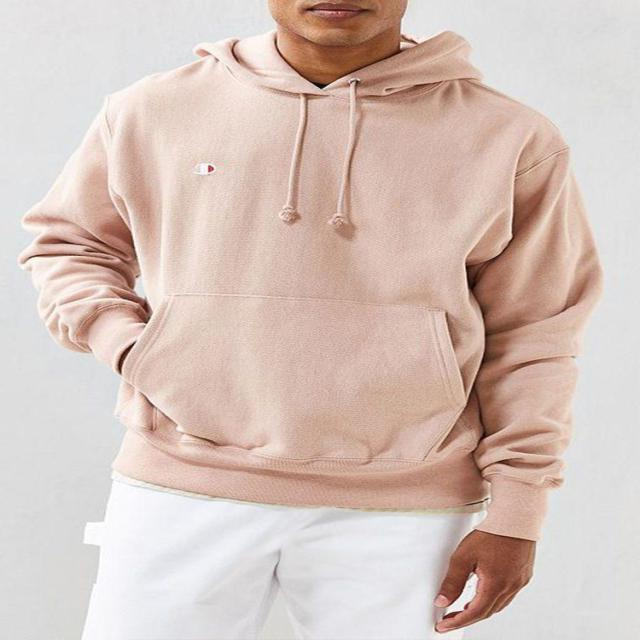Standing: (29, 0, 579, 640)
